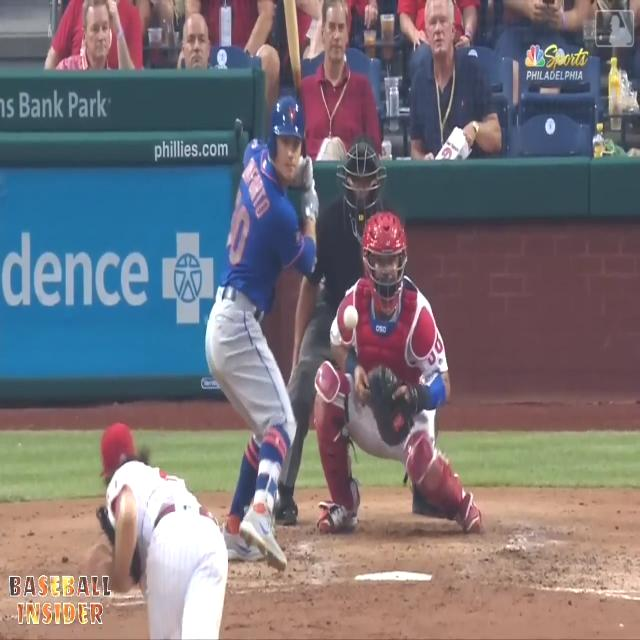sports ball: (340, 305, 364, 329)
